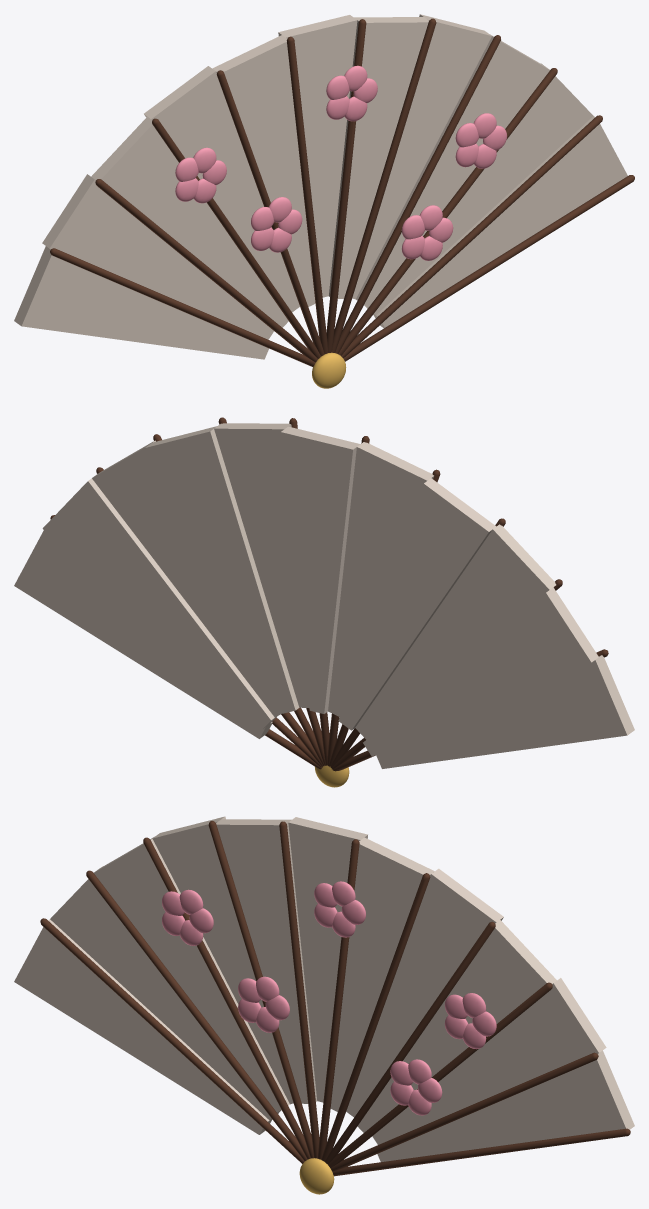
Rendered from deco_abanico.glb.
3 views of the same model, one above another, from view 1: azimuth 30°, elevation 25°; view 2: azimuth 150°, elevation 25°; view 3: azimuth 330°, elevation 25° (orthographic).
Visible parts, largest first — view 1: pliegue 10.001, pliegue 9.001, pliegue 0.001, pliegue 8.001, pliegue 4.001, pliegue 6.001, pliegue 3.001, pliegue 5.001, pliegue 7.001, pliegue 1.001, pliegue 2.001, varilla 3.001 (+11 smaller); view 2: pliegue 3.001, pliegue 5.001, pliegue 1.001, pliegue 7.001, pliegue 9.001, pliegue 8.001, pliegue 10.001, pliegue 6.001, pliegue 4.001, pliegue 0.001, pliegue 2.001, clavo abanico.001; view 3: pliegue 10.001, pliegue 3.001, pliegue 0.001, pliegue 1.001, pliegue 4.001, pliegue 6.001, pliegue 8.001, pliegue 5.001, pliegue 9.001, pliegue 2.001, pliegue 7.001, varilla 9.001 (+11 smaller).
Boxes of the visible parts, bbox=[...] form: pliegue 10.001: bbox=[14, 246, 269, 359]; pliegue 9.001: bbox=[42, 174, 273, 339]; pliegue 0.001: bbox=[373, 116, 627, 328]; pliegue 8.001: bbox=[91, 116, 288, 327]; pliegue 4.001: bbox=[329, 17, 428, 298]; pliegue 6.001: bbox=[212, 35, 315, 306]; pliegue 3.001: bbox=[352, 14, 491, 299]; pliegue 5.001: bbox=[278, 15, 357, 297]; pliegue 7.001: bbox=[144, 66, 299, 312]; pliegue 1.001: bbox=[364, 63, 593, 314]; pliegue 2.001: bbox=[356, 34, 549, 307]; varilla 3.001: bbox=[335, 35, 500, 353]; pliegue 3.001: bbox=[145, 426, 299, 713]; pliegue 5.001: bbox=[280, 426, 360, 713]; pliegue 1.001: bbox=[42, 478, 276, 729]; pliegue 7.001: bbox=[338, 478, 496, 730]; pliegue 9.001: bbox=[363, 587, 598, 756]; pliegue 8.001: bbox=[355, 524, 556, 739]; pliegue 10.001: bbox=[376, 655, 634, 768]; pliegue 6.001: bbox=[328, 442, 433, 716]; pliegue 4.001: bbox=[214, 423, 309, 707]; pliegue 0.001: bbox=[14, 530, 272, 738]; pliegue 2.001: bbox=[92, 440, 281, 717]; clavo abanico.001: bbox=[315, 765, 349, 787]; pliegue 10.001: bbox=[14, 919, 272, 1134]; pliegue 3.001: bbox=[346, 868, 503, 1117]; pliegue 0.001: bbox=[377, 1050, 634, 1161]; pliegue 1.001: bbox=[372, 978, 606, 1144]; pliegue 4.001: bbox=[330, 837, 434, 1111]; pliegue 6.001: bbox=[216, 819, 317, 1103]; pliegue 8.001: bbox=[94, 837, 289, 1112]; pliegue 5.001: bbox=[288, 817, 367, 1102]; pliegue 9.001: bbox=[50, 866, 281, 1120]; pliegue 2.001: bbox=[357, 920, 556, 1132]; pliegue 7.001: bbox=[152, 816, 293, 1104]; varilla 9.001: bbox=[86, 870, 307, 1160].
Bounding box in the file's own units: 0.5677 × 0.3174 × 0.0317.
